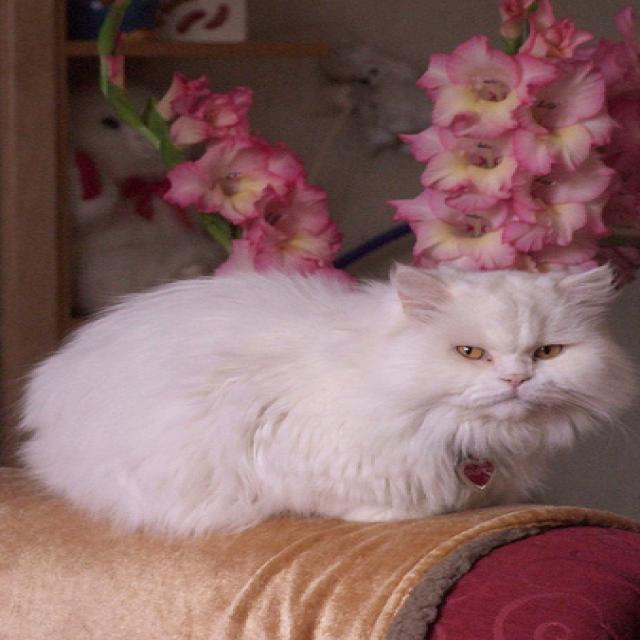Persian: (9, 254, 640, 534)
